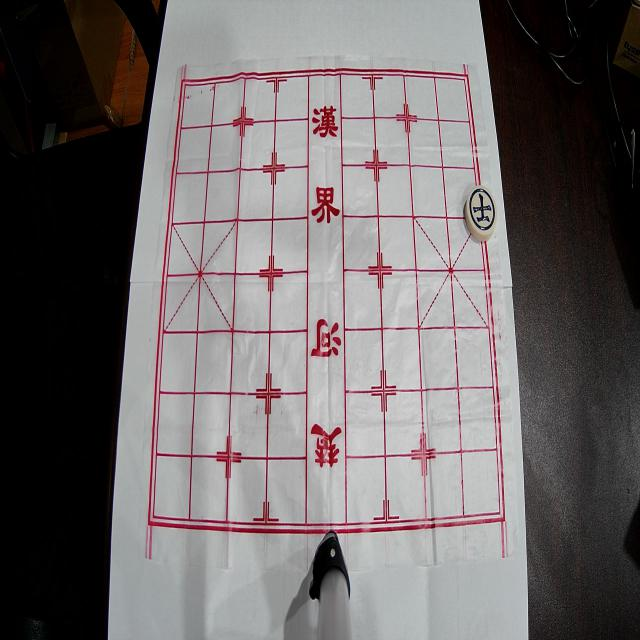black-guard: (465, 186, 497, 242)
